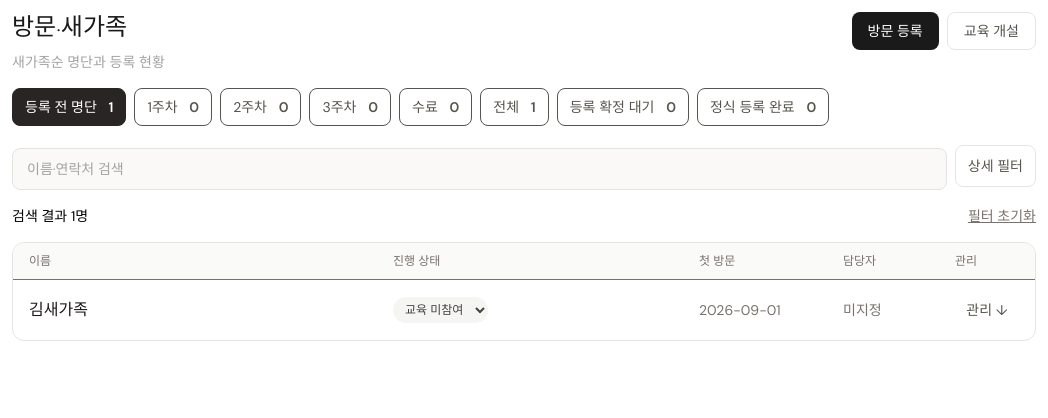
Scenario: 저장 실패를 표시하며 기존 주차를 유지한다
The width and height of the screenshot is (1048, 418).
Select "3주차" in the dropdown named "김새가족 진행 상태" at [440, 310], box [393, 297, 488, 323]
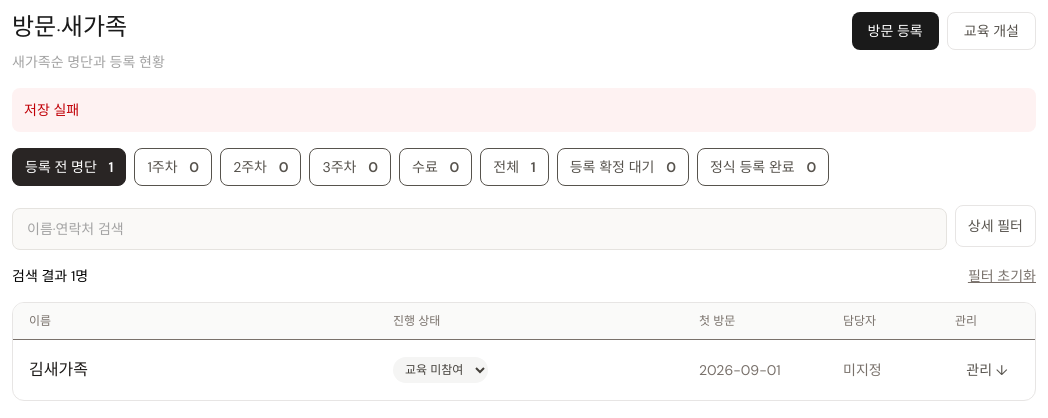
expect the message reads "저장 실패": met, box [24, 101, 79, 119]
